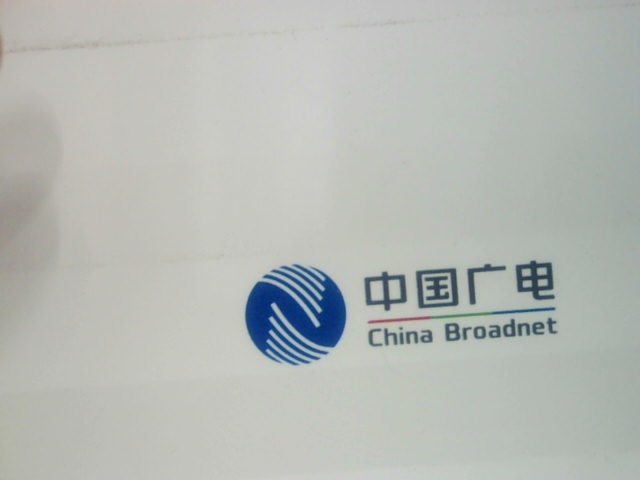AW_ChinaBroadNet: (239, 252, 569, 369)
